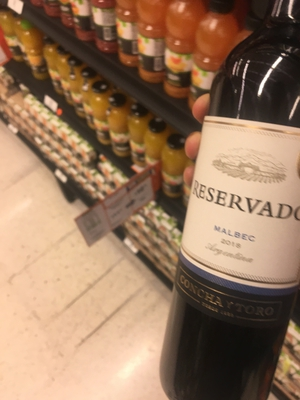reservado malbec: (167, 29, 300, 361)
